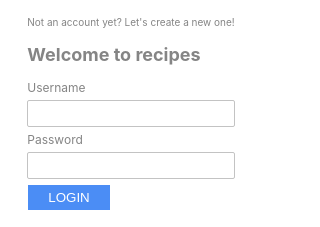
Test case: user can swicth between login and signup forms
Expected: the heading "Welcome to recipes" is shown, 27,44 -> 201,65
Step 1. Click the text "Not an account yet? Let's create a new one!" → [131, 22], box 27,16 -> 235,28
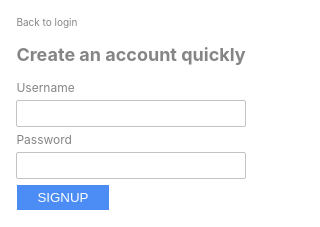
Result: the heading "Welcome to recipes" is gone
Result: the heading "Create an account quickly" is shown at 16,44 -> 246,65
Result: the text "Back to login" is shown
Step 2. Click the text "Back to login" → [47, 22], box 16,16 -> 77,28
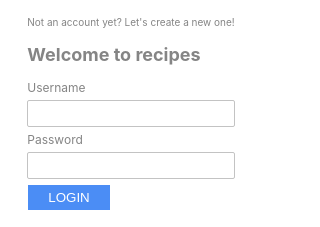
Result: the heading "Create an account quickly" is gone
Result: the heading "Welcome to recipes" is shown at 27,44 -> 201,65
